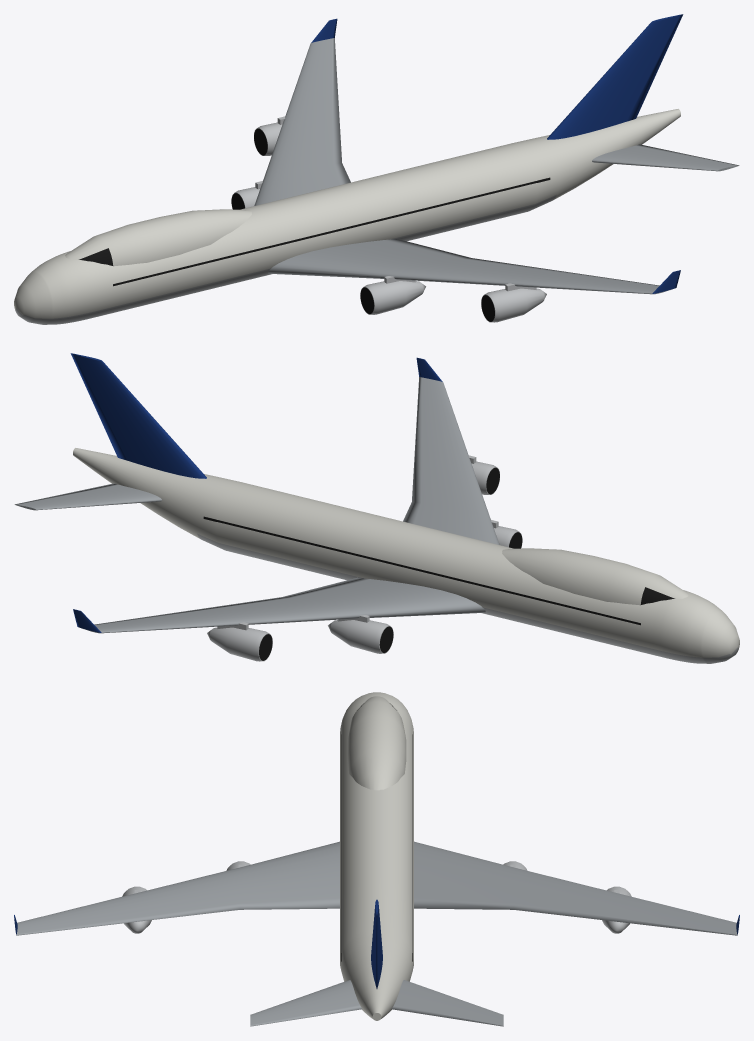
3 renders of one model, top to bottom at view 1: azimuth 30°, elevation 25°; view 2: azimuth 150°, elevation 25°; view 3: azimuth 270°, elevation 25°, orthographic. The views are drawn at different scales.
Parts seen in each view (by area): view 1: b744; view 2: b744; view 3: b744.
Part boxes in pixels (x1=…): b744: x1=14, y1=14, x2=739, y2=324; b744: x1=14, y1=353, x2=739, y2=663; b744: x1=14, y1=692, x2=739, y2=1026.
Bounding box in the file's own units: 71.14 × 16.38 × 63.56.
